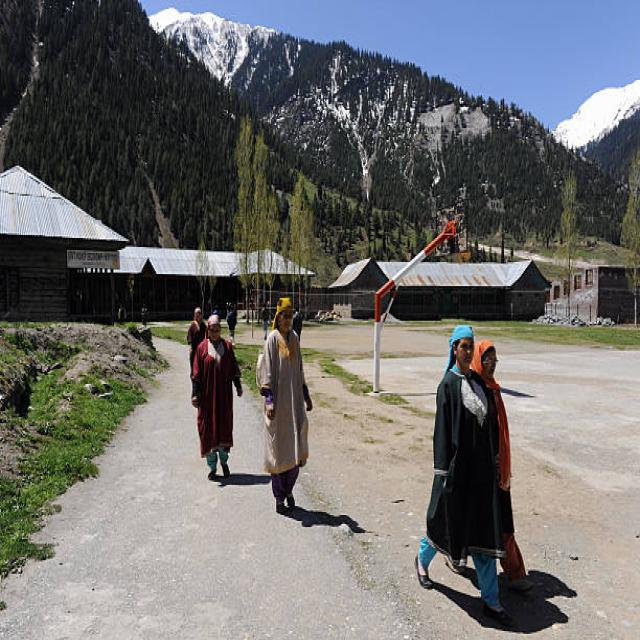civilian: (415, 325, 508, 622), (471, 340, 526, 590), (257, 298, 312, 514), (191, 315, 242, 479), (187, 307, 205, 367)
